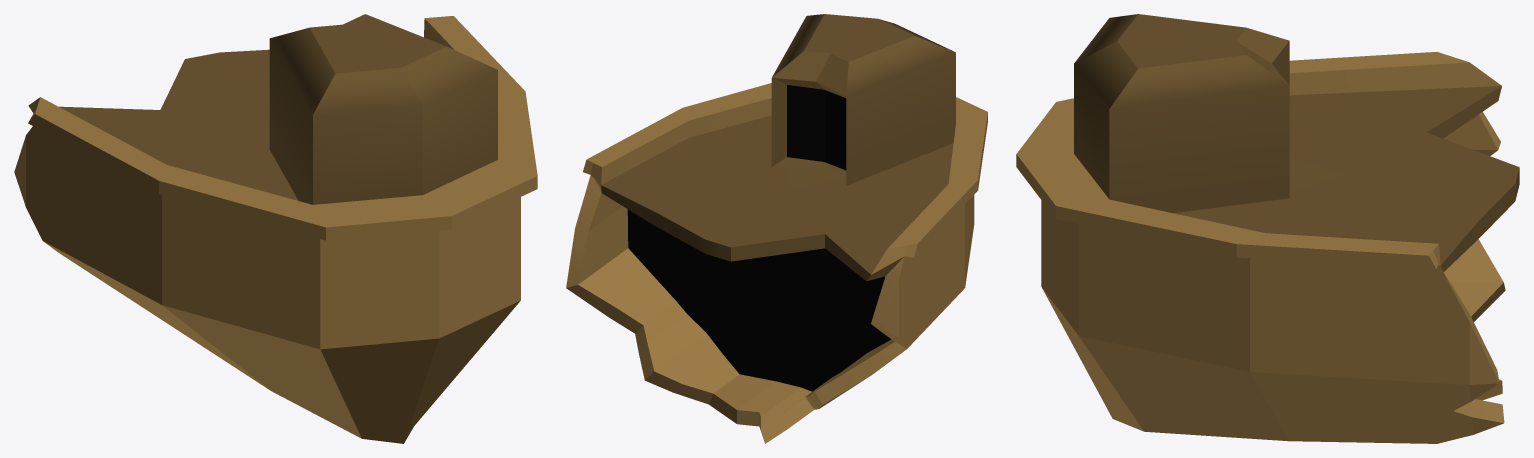
The model's file is shipwreckhull1.fbx.
3 renders of one model, left to right at view 1: azimuth 30°, elevation 25°; view 2: azimuth 150°, elevation 25°; view 3: azimuth 270°, elevation 25°, orthographic. The views are drawn at different scales.
Visible parts, largest first — view 1: Hull3; view 2: Hull3; view 3: Hull3.
Boxes of the visible parts, x1=… form: Hull3: x1=14, y1=14, x2=537, y2=443; Hull3: x1=566, y1=14, x2=987, y2=443; Hull3: x1=1016, y1=14, x2=1519, y2=443.
Size of the model in its own units: 3.32 by 2.85 by 3.44.
